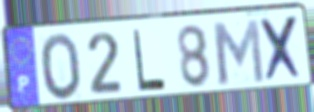2: (85, 30, 125, 98)
8: (175, 22, 211, 90)
L: (131, 27, 168, 93)
M: (209, 16, 267, 87)
O: (38, 32, 84, 104)
X: (258, 13, 305, 85)
